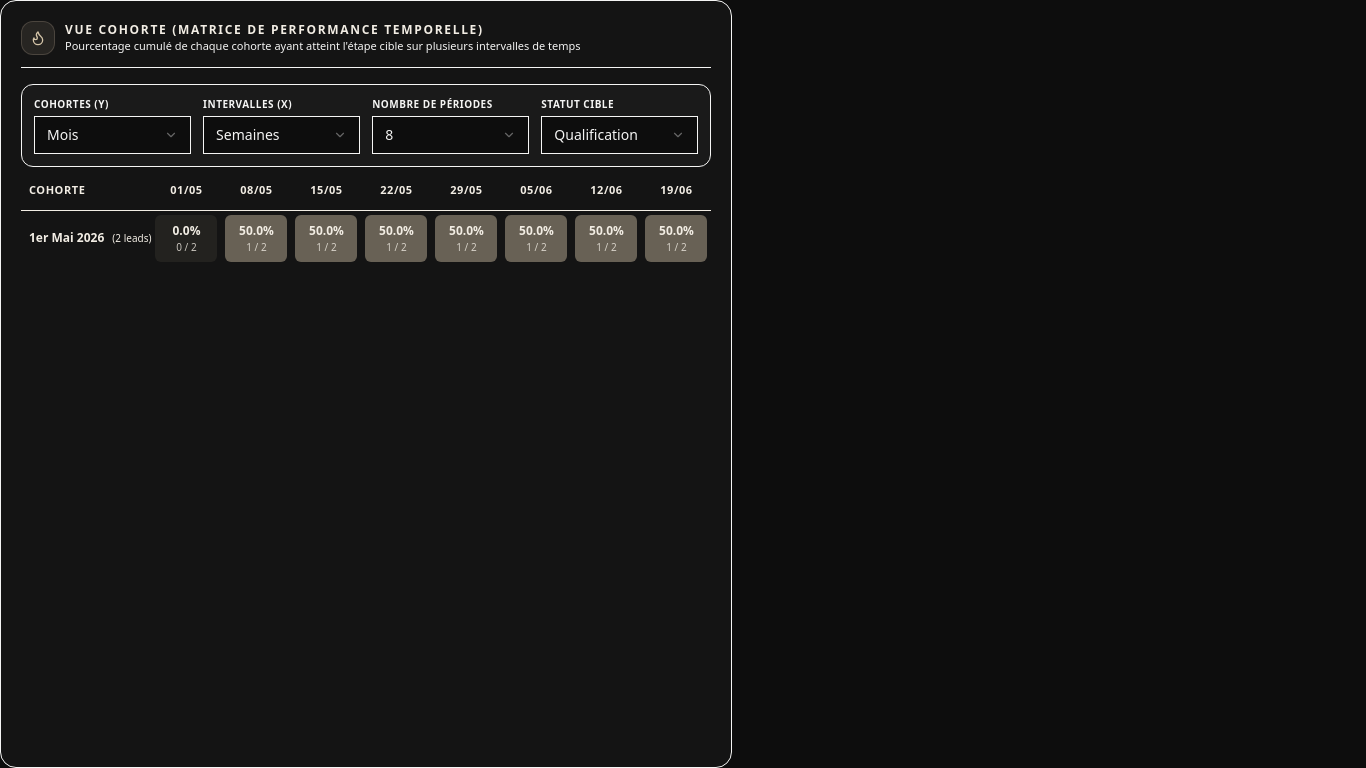
CohortHeatmap › opens drawer with lead details on cell click
Click the 1st button "50.0% 1 / 2".
click(256, 238)  # box [226, 215, 288, 262]
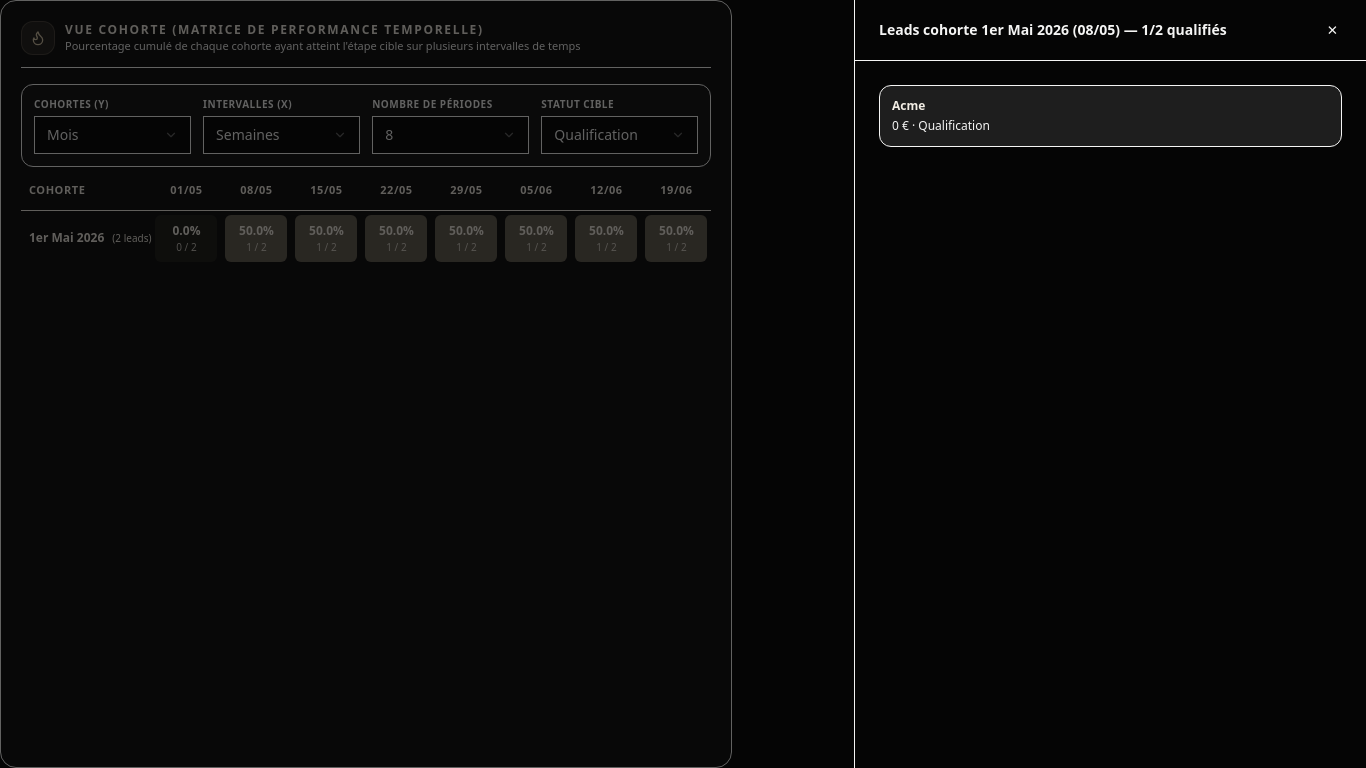
Now the text "Acme" is shown, box [892, 97, 925, 114]
